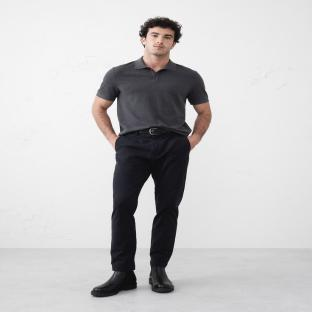Human: (91, 17, 211, 296)
